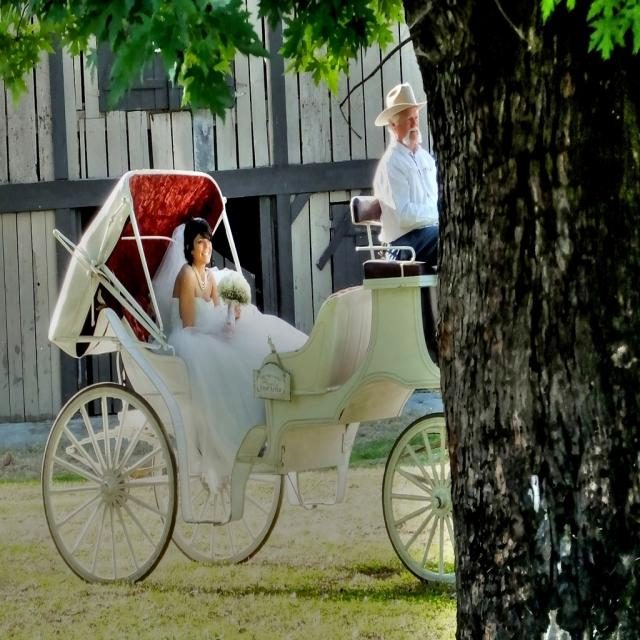Hat: (372, 81, 427, 128)
